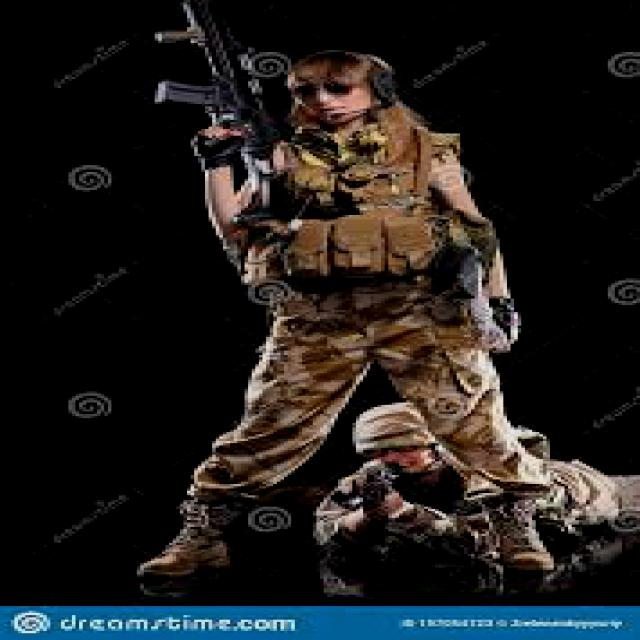long weapon: (122, 0, 282, 174)
